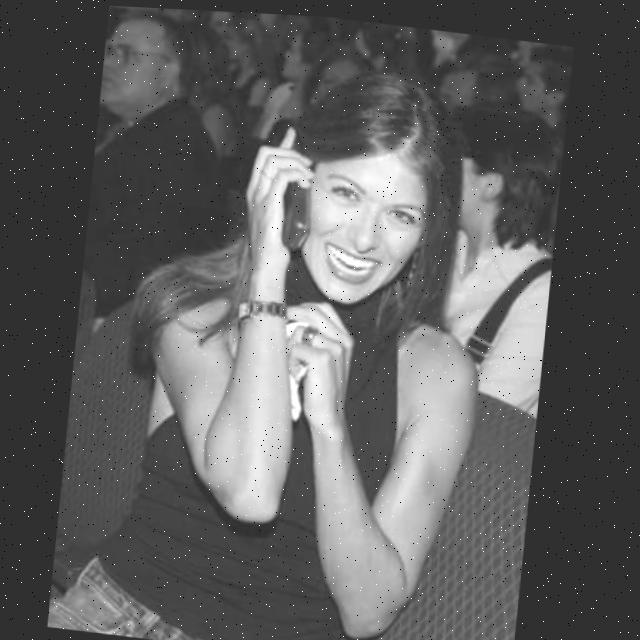face: (269, 131, 453, 321)
